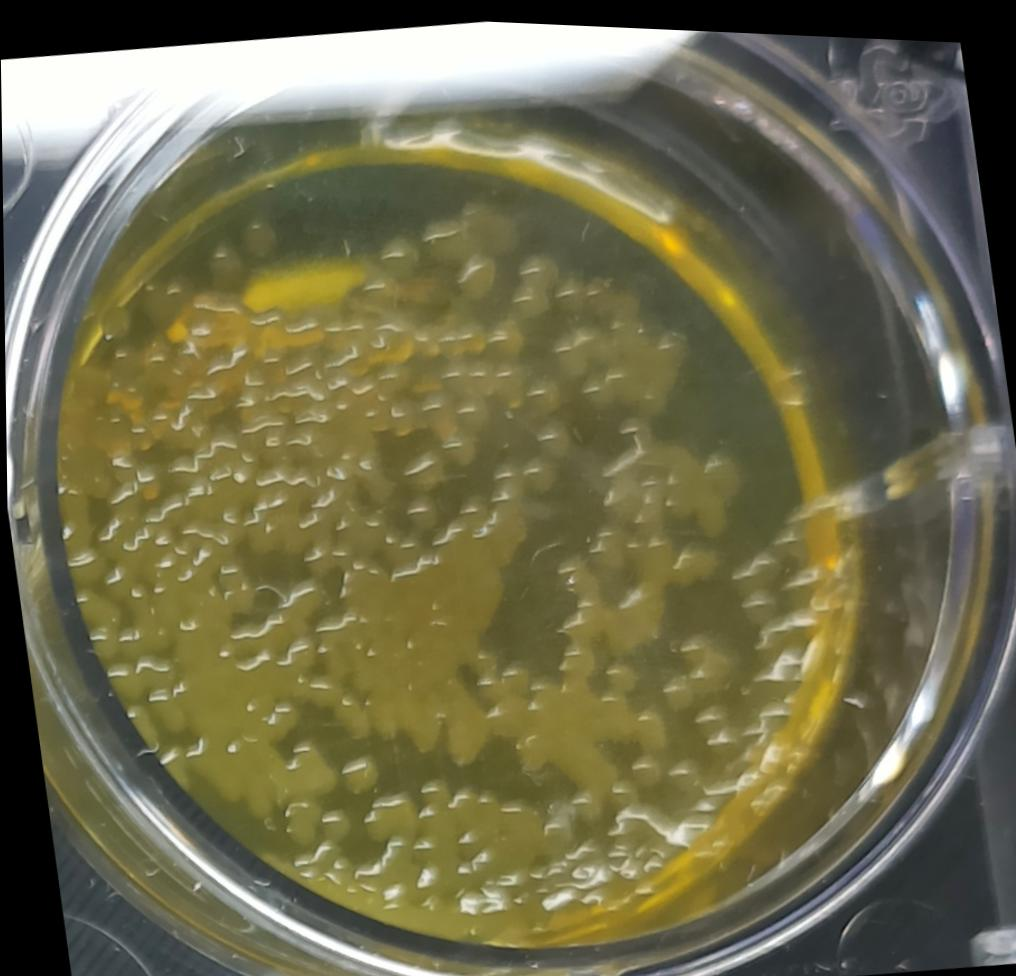vangil: (586, 399, 756, 546)
